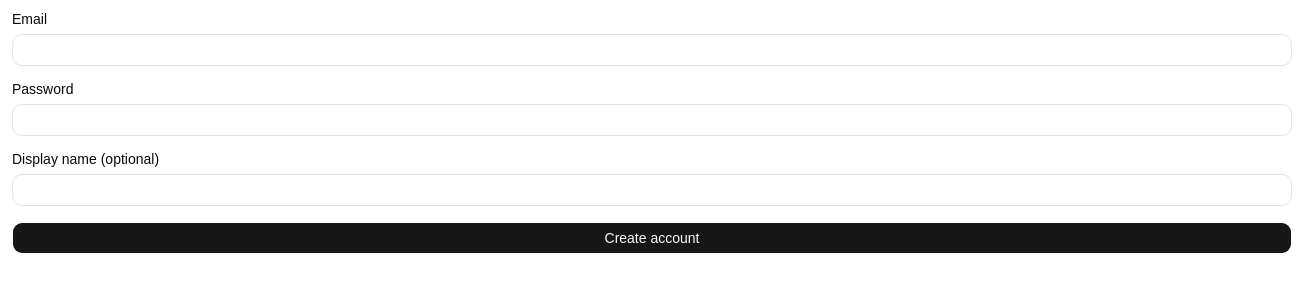
Test case: RegisterForm › clears a stale form-level error when the next submit sets an email field error (409)
In the field labelled "Email": x=652, y=50 [12,34,1292,66], type "taken@example.com"
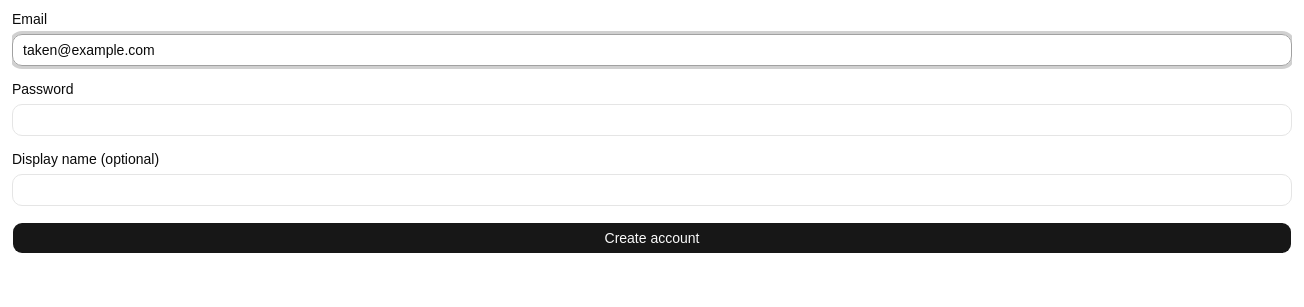
In the password field labelled "Password": x=652, y=120 [12,104,1292,136], type "longenough1"
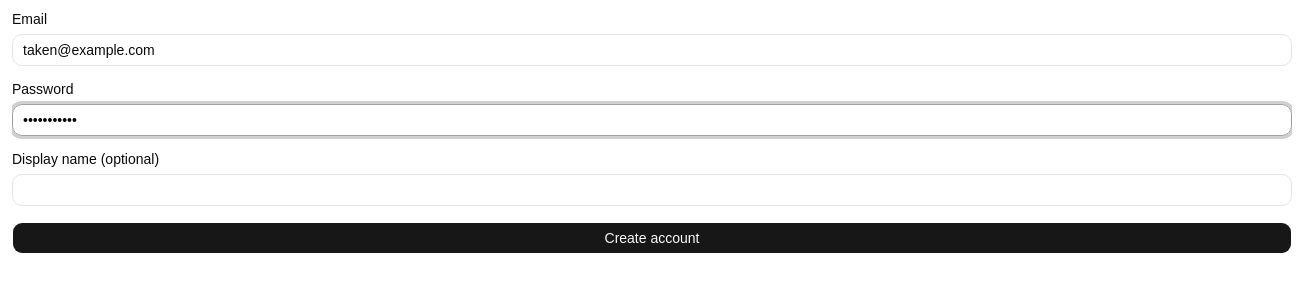
Click the button "Create account": x=652, y=238 [12,222,1292,254]
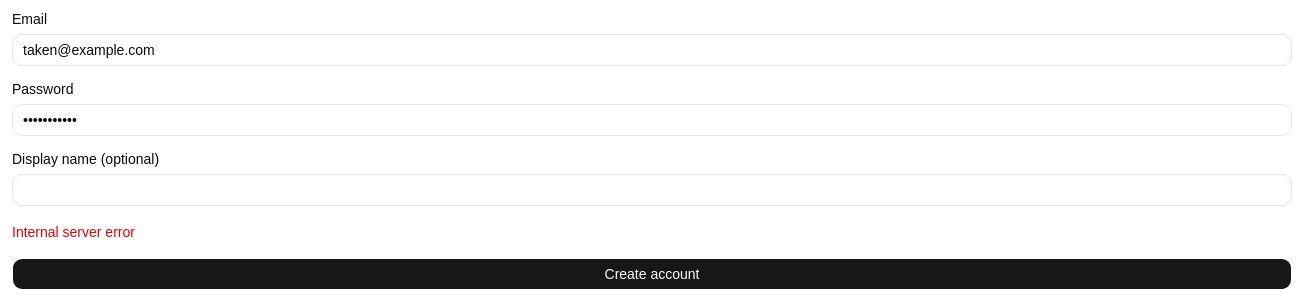
Result: the message reads "Internal server error" at [12,224,135,240]
Click the button "Create account": x=652, y=274 [12,258,1292,290]
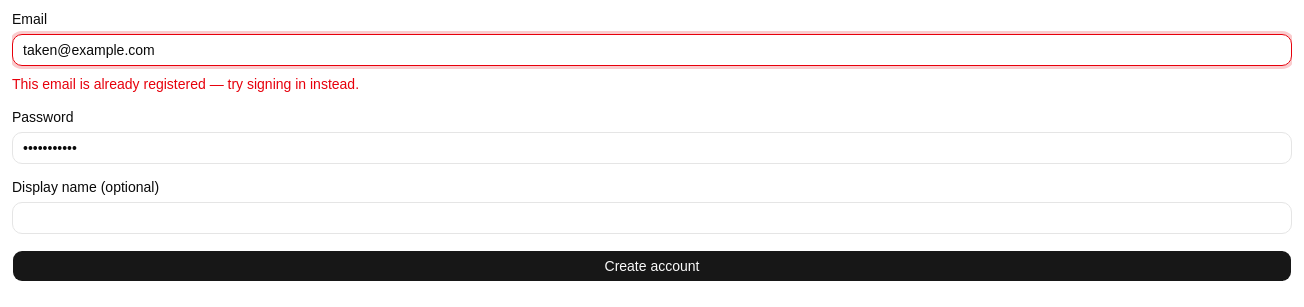
Result: the text "This email is already registered — try signing in instead." is shown at [12,76,359,92]
Result: the message "Internal server error" is gone
